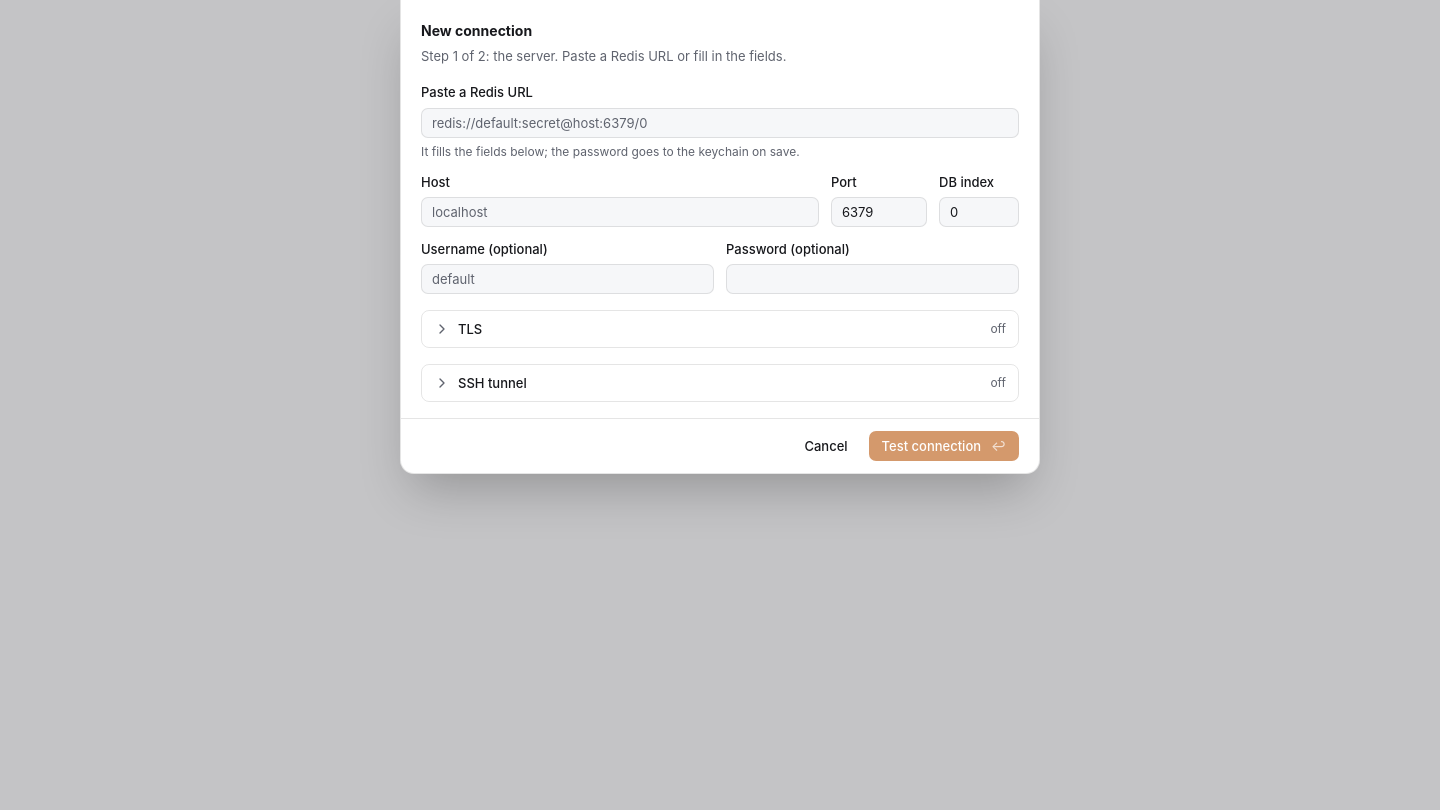
Scenario: ConnectionSheet: placement › honours preferredPlacement ("New connection here")
Type "h" into the field labelled "Host" at (620, 212), box [421,197,819,227]
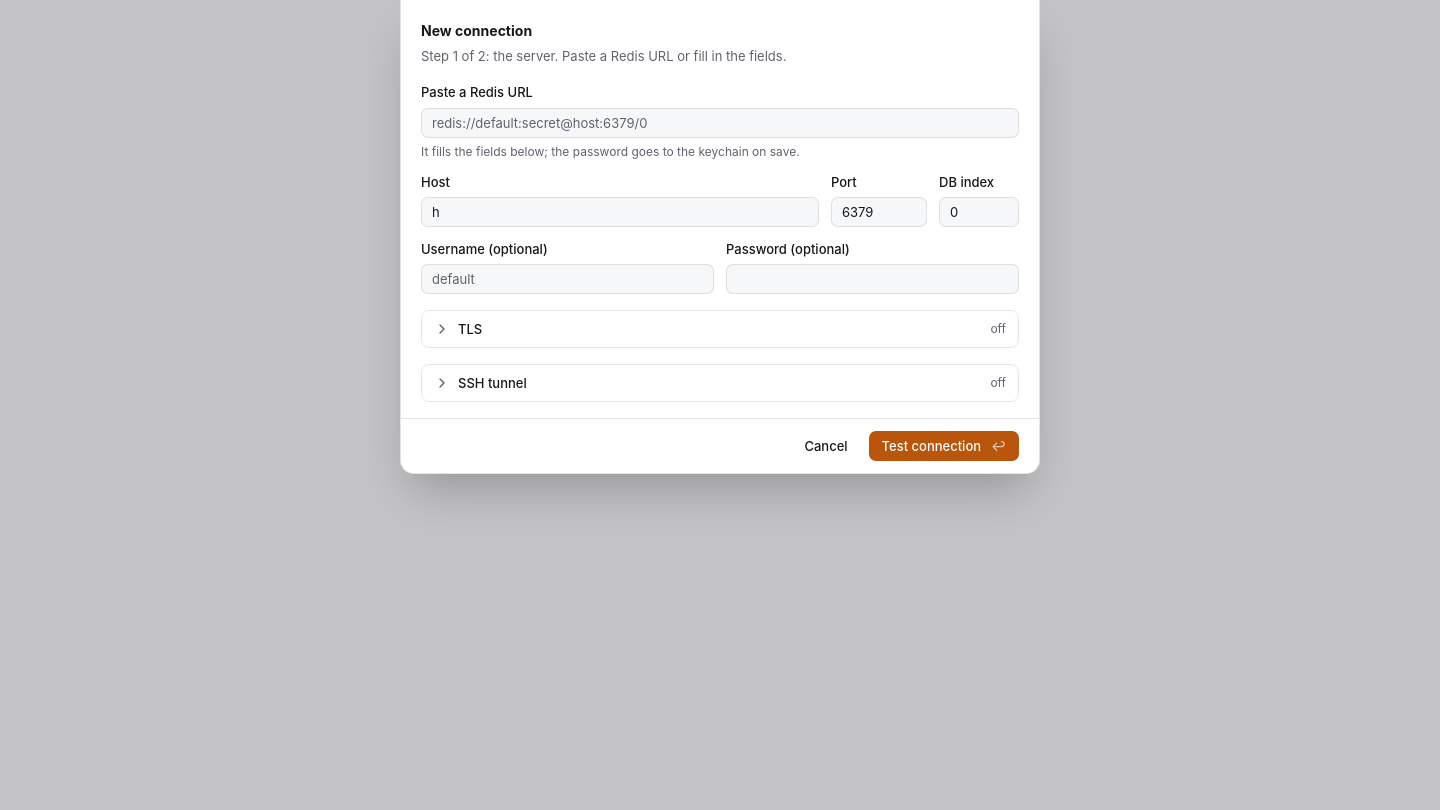
Click the button "Test connection ↩" at (944, 446), box [868,431,1019,461]
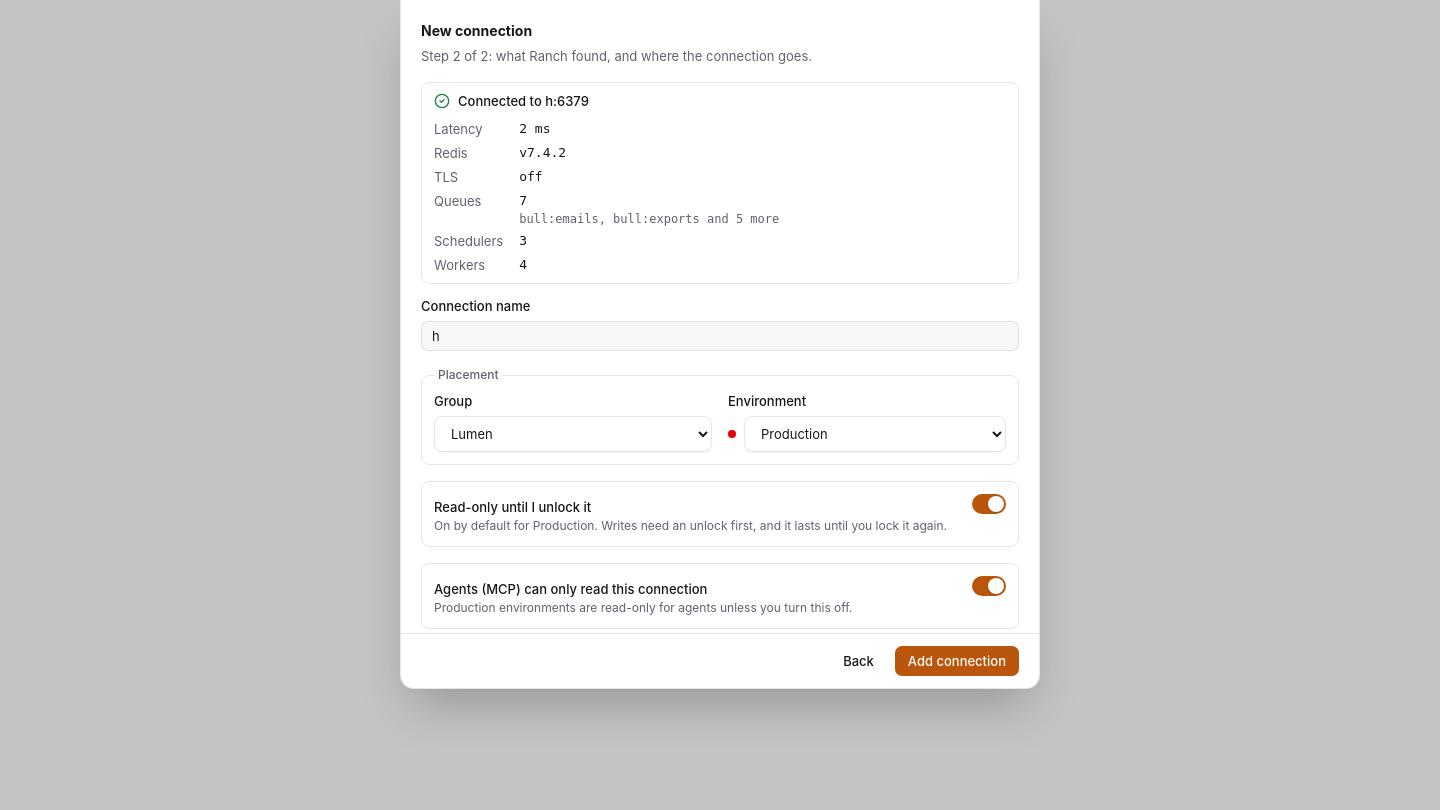
Result: the dropdown labelled "Environment" shows "Production" at [744,416,1006,452]
Result: the switch named "Read-only until I unlock it" in the row of "Read-only until I unlock it" is checked at [972,494,1006,514]
